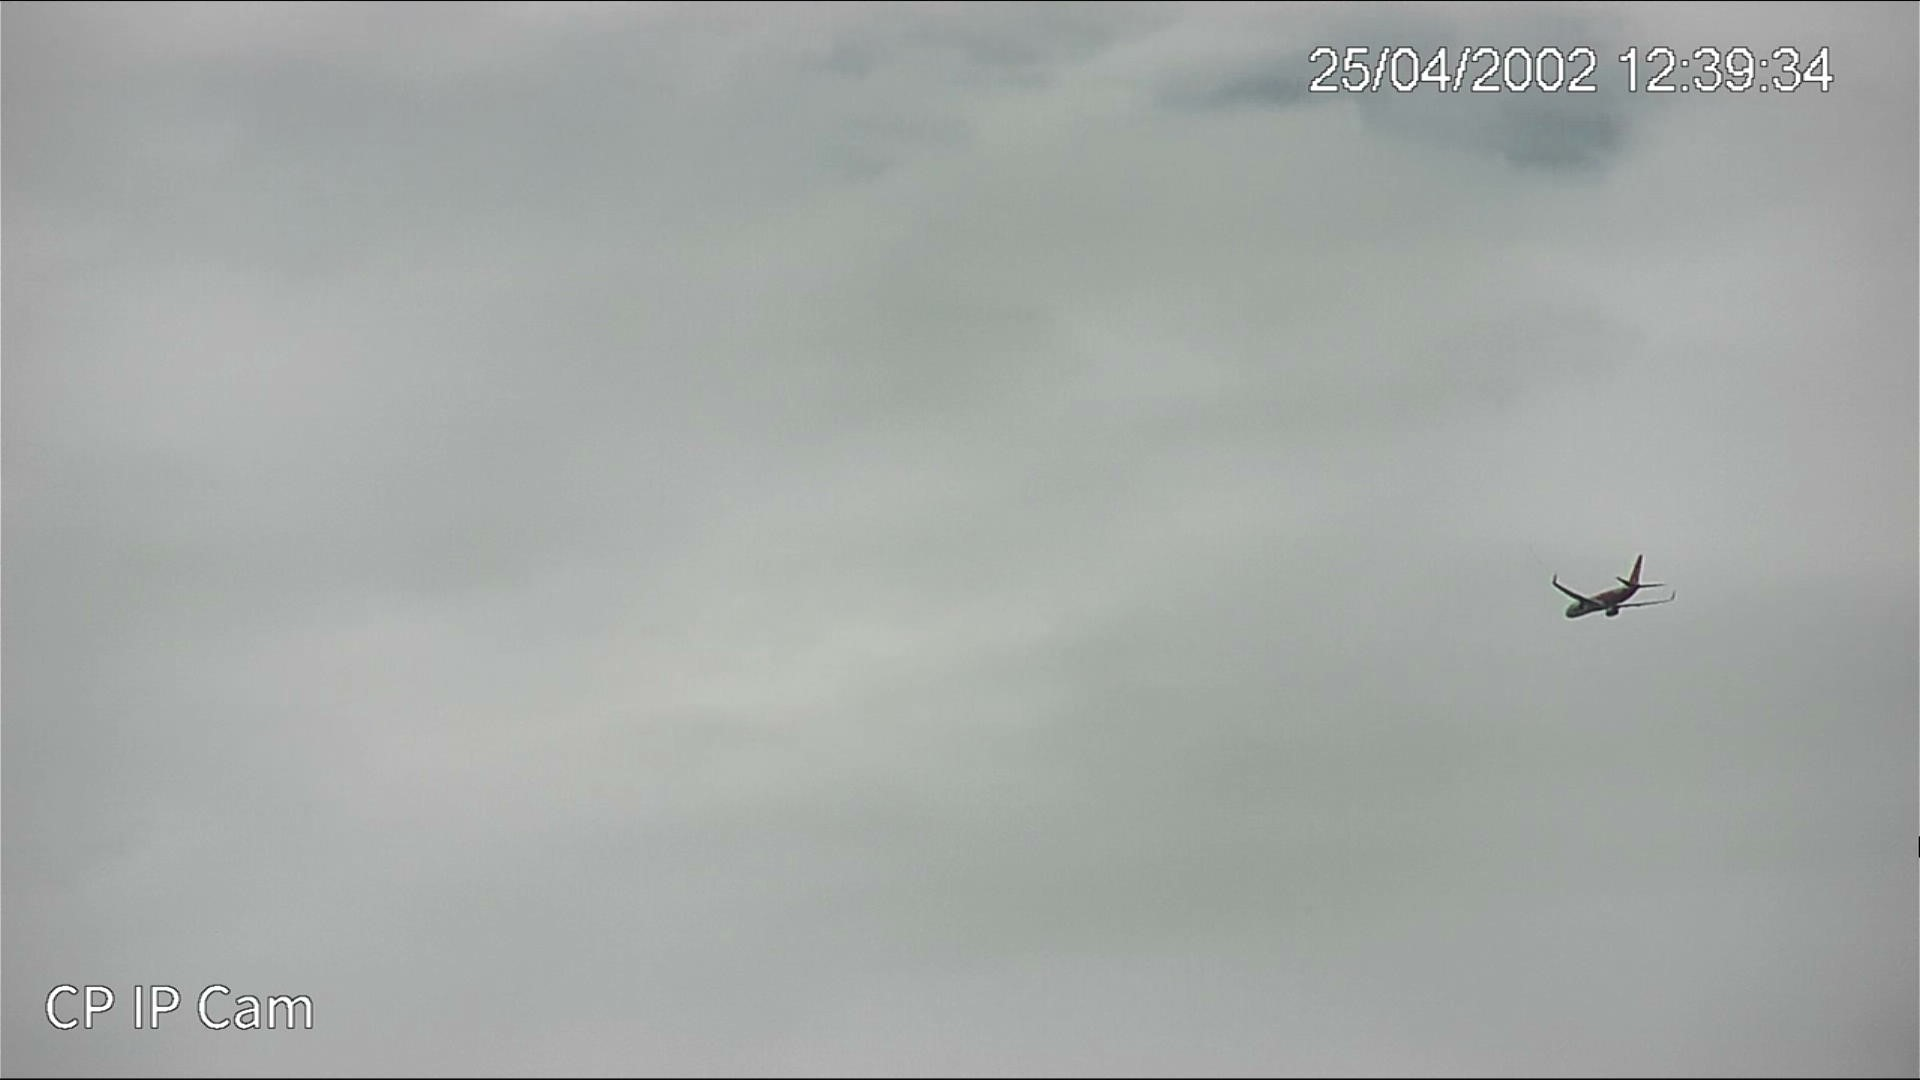SU_30: (1545, 553, 1693, 626)
